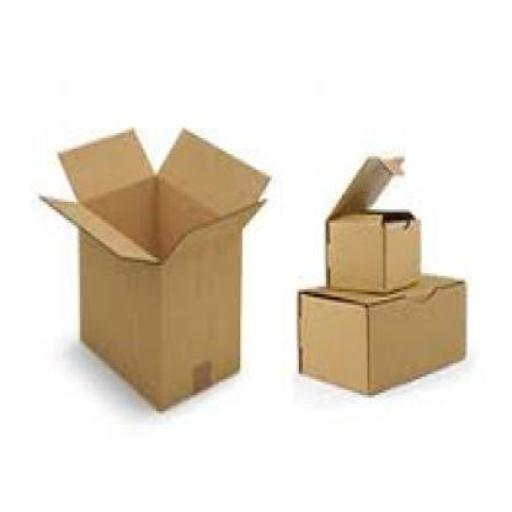cardboard: (38, 127, 268, 412), (296, 273, 466, 393), (320, 154, 418, 294)
